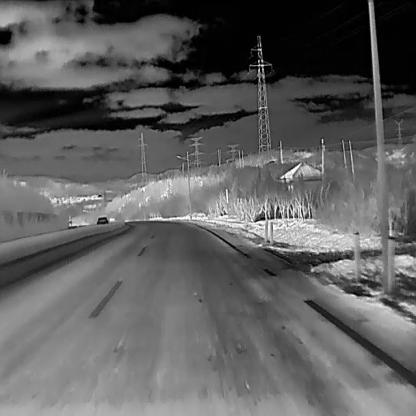car: (96, 215, 107, 225)
